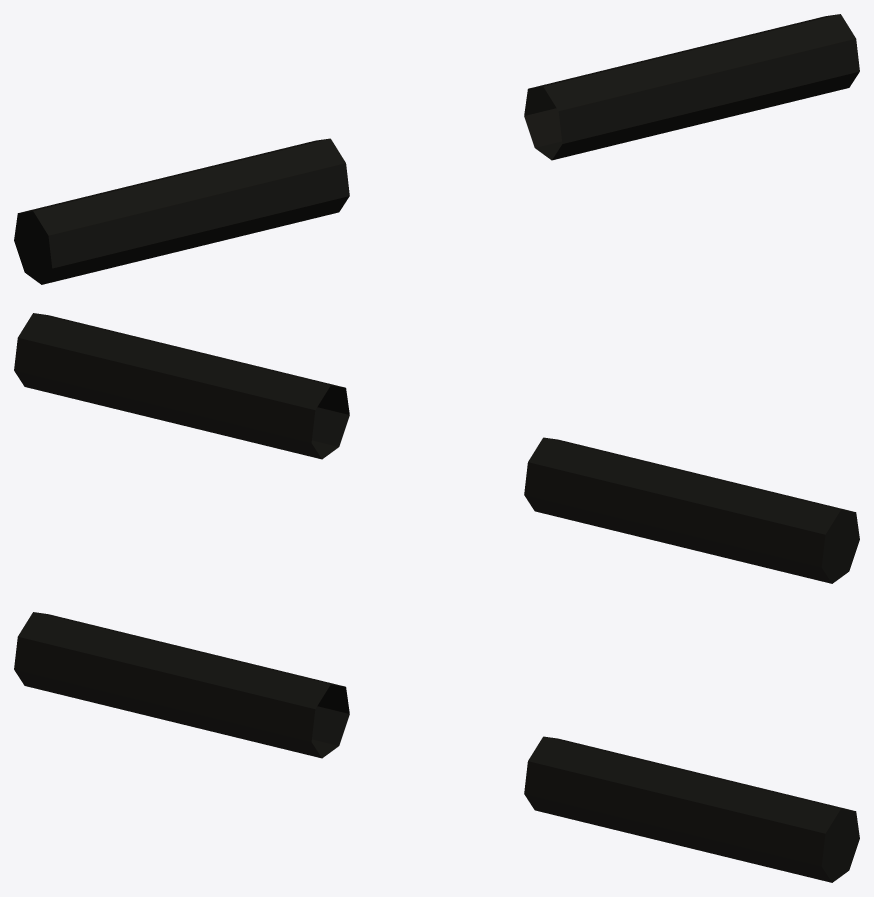
File: Person_Arms_Object.fbx
3 renders of one model, top to bottom at view 1: azimuth 30°, elevation 25°; view 2: azimuth 150°, elevation 25°; view 3: azimuth 330°, elevation 25°, orthographic.
Visible parts, largest first — view 1: Arm_Right, Arm_Left; view 2: Arm_Right, Arm_Left; view 3: Arm_Left, Arm_Right.
Boxes of the visible parts, <box> form: Arm_Right: <box>14,138,349,284</box>; Arm_Left: <box>524,14,859,160</box>; Arm_Right: <box>524,437,859,583</box>; Arm_Left: <box>14,313,349,459</box>; Arm_Left: <box>524,736,859,882</box>; Arm_Right: <box>14,612,349,758</box>.
Size of the model in its own units: 9.5 by 0.7604 by 0.7799.
1 material, 1 textured.
